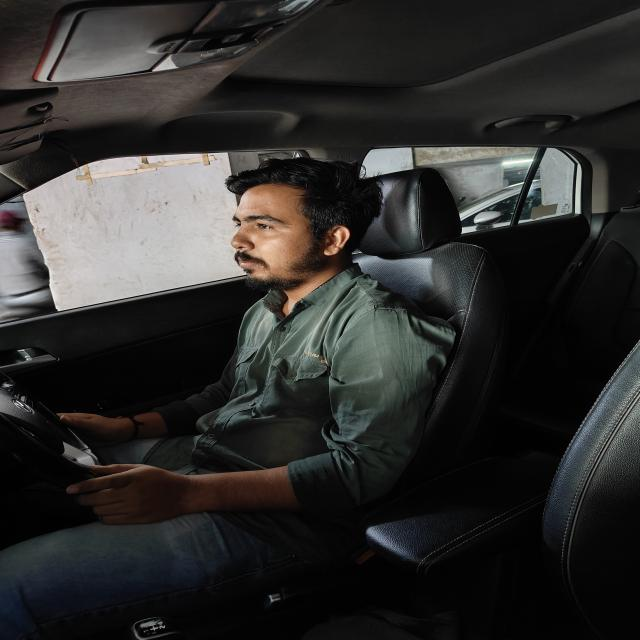no-seatbelt: (123, 247, 460, 542)
